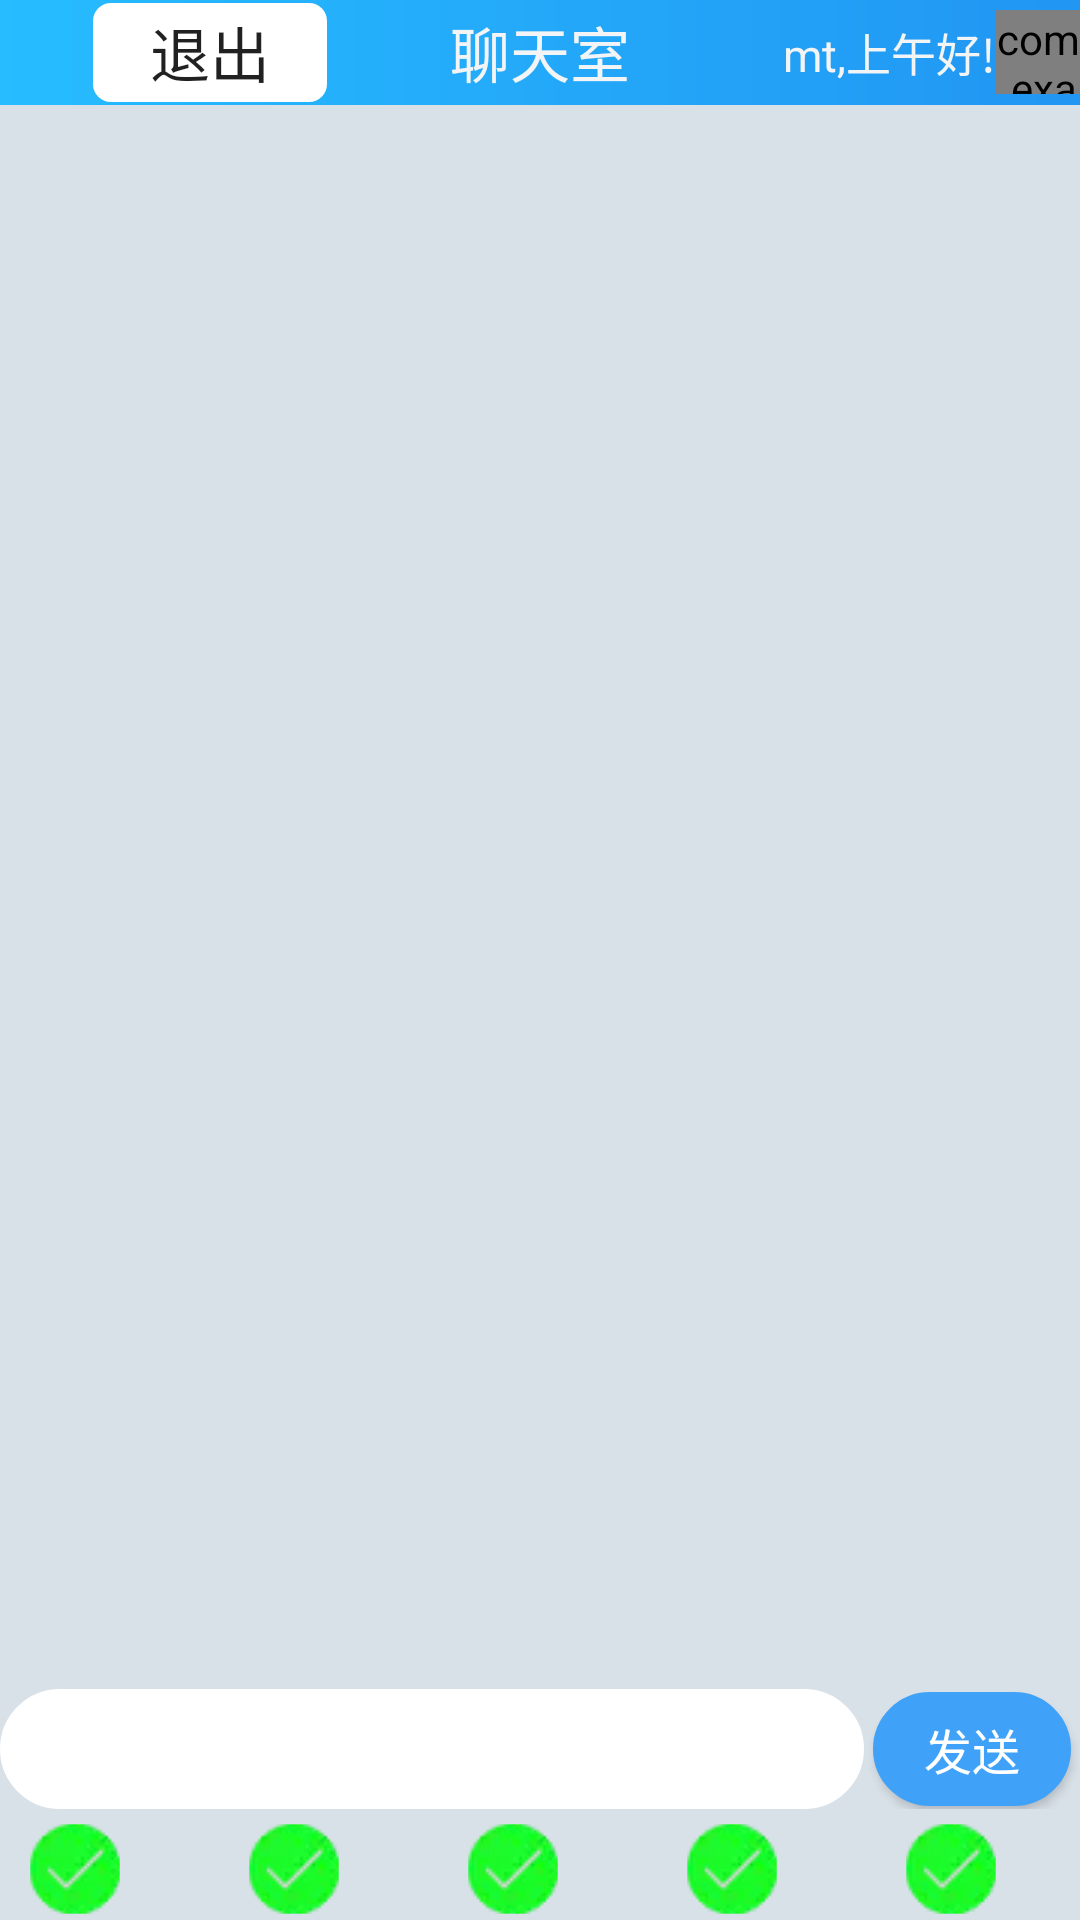

Where icons sit on this 1080 × 1920 app screen, as box=[x1, y1, x2, y2]:
truetip: box=[30, 1824, 120, 1914], box=[249, 1824, 339, 1914], box=[468, 1824, 558, 1914], box=[687, 1824, 777, 1914], box=[906, 1824, 996, 1914]
